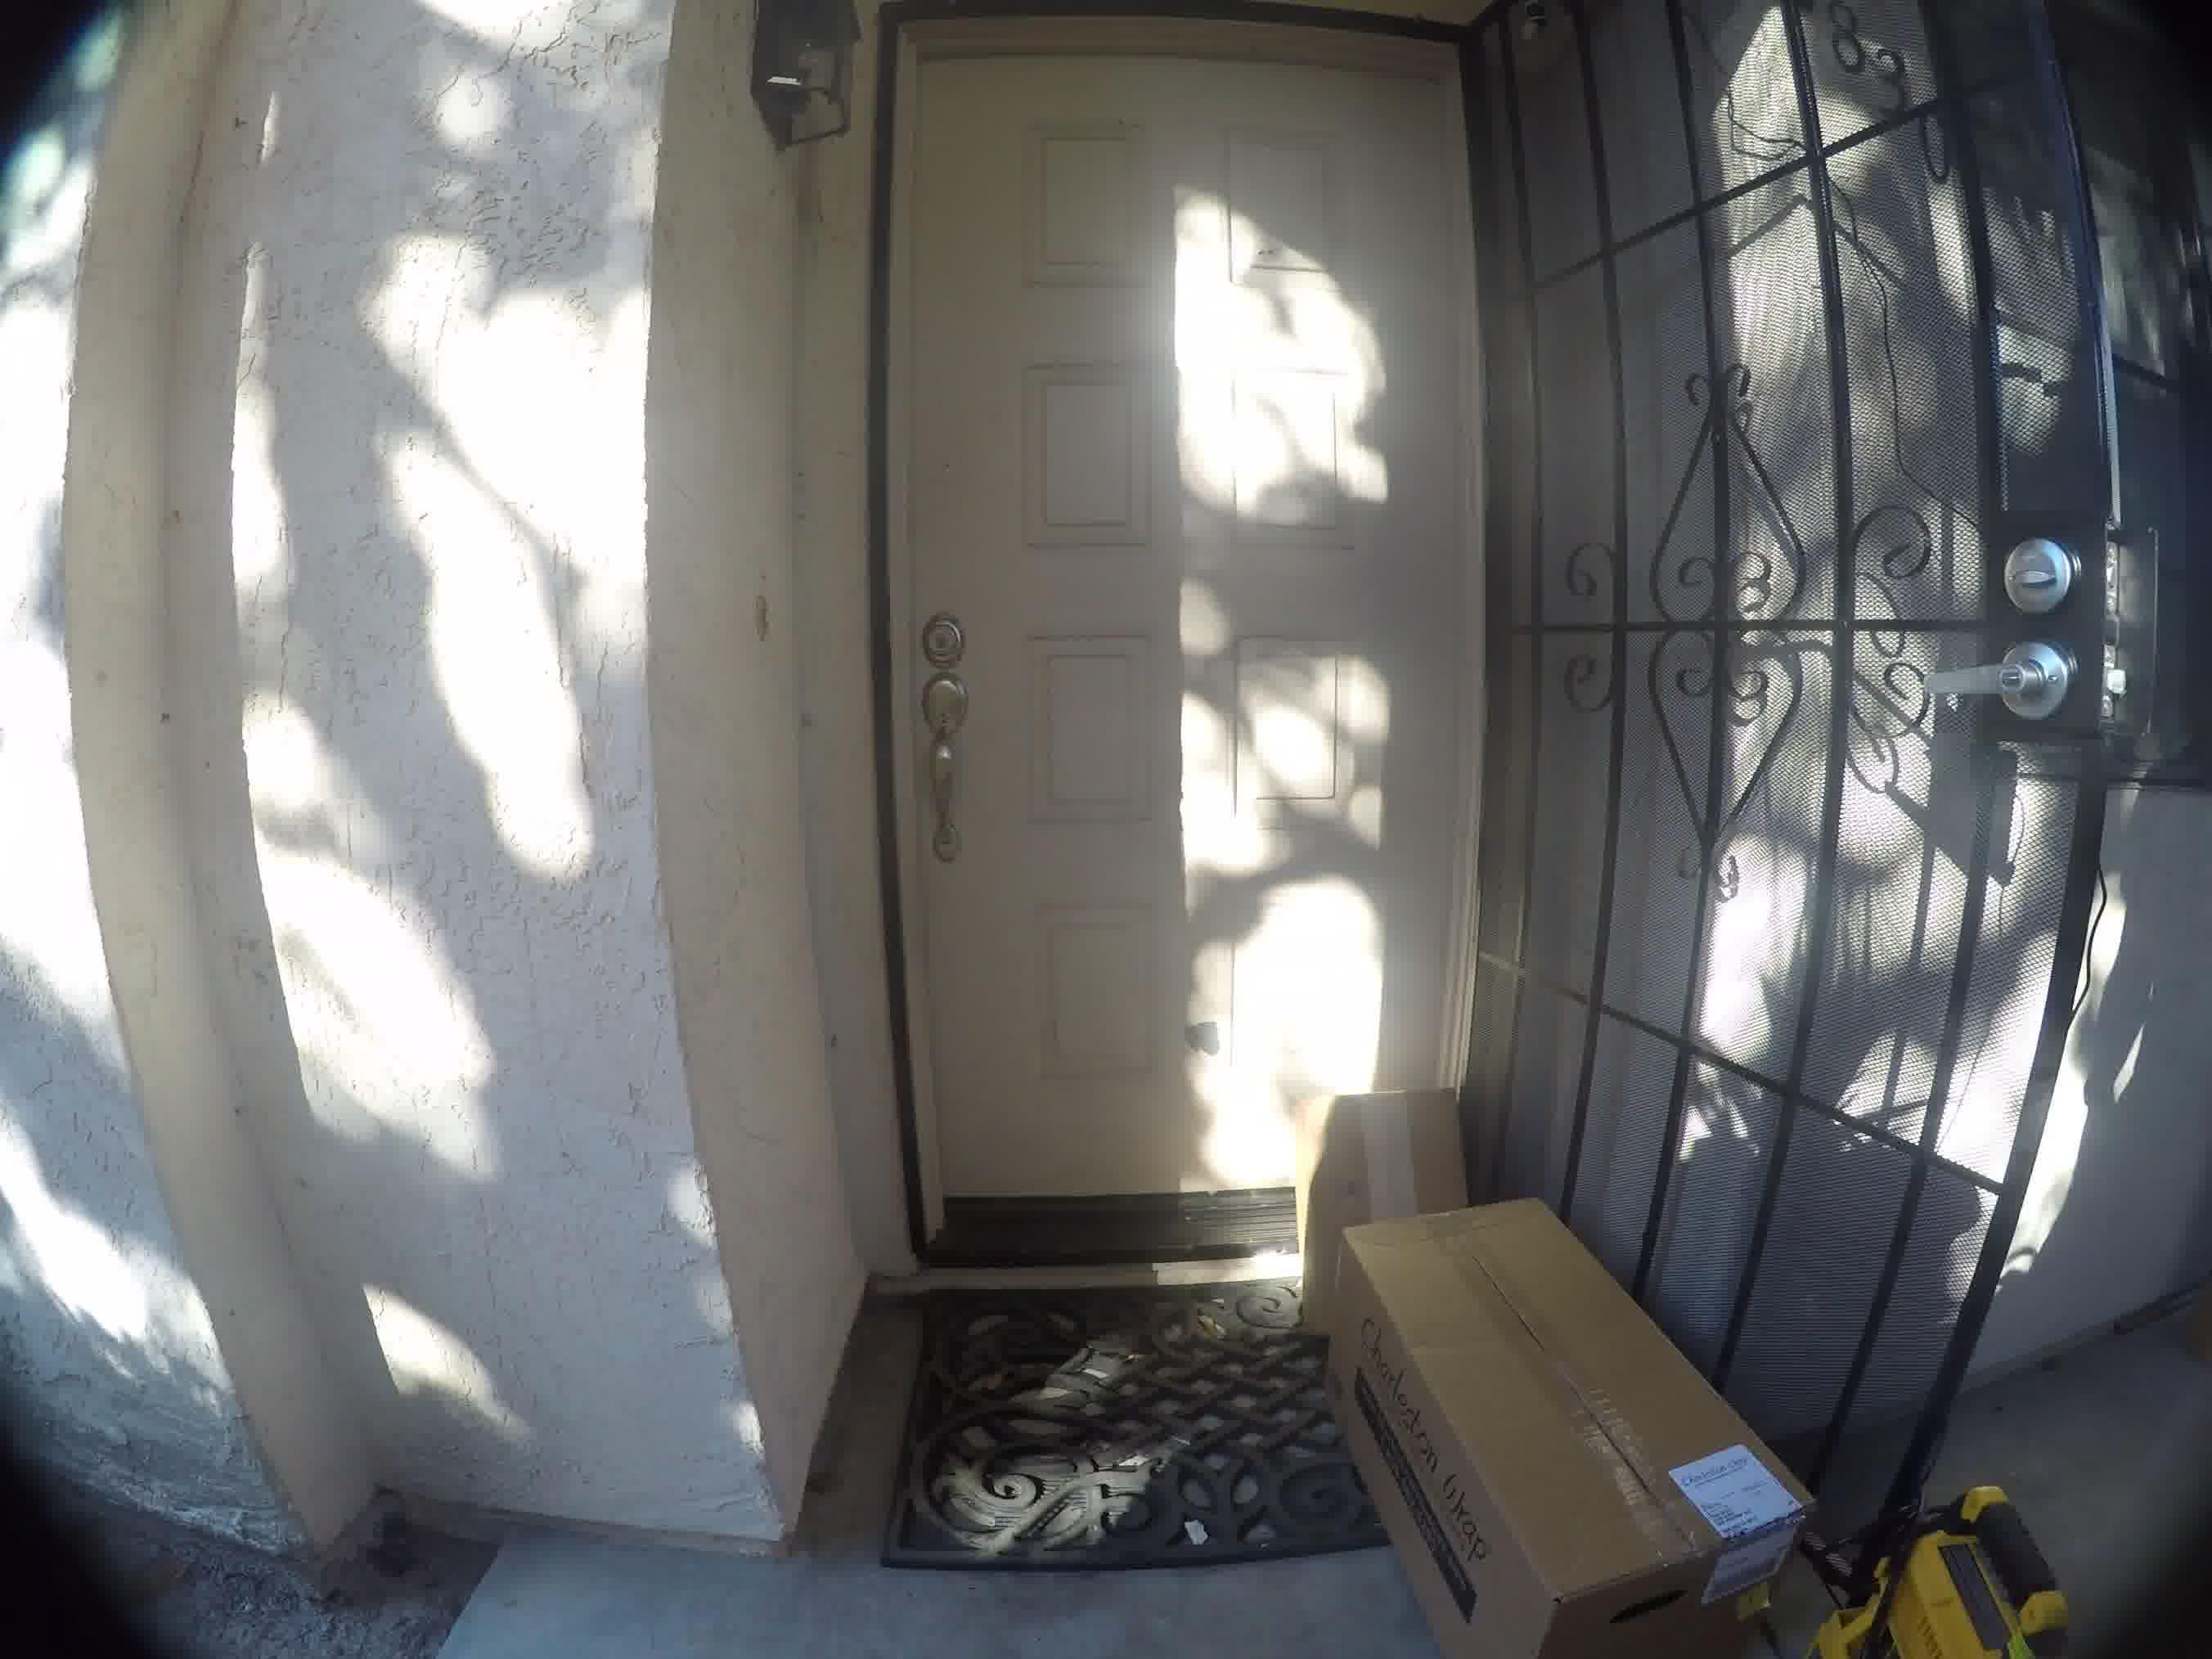box: (1294, 1215, 1797, 1633), (1287, 1049, 1501, 1201)
